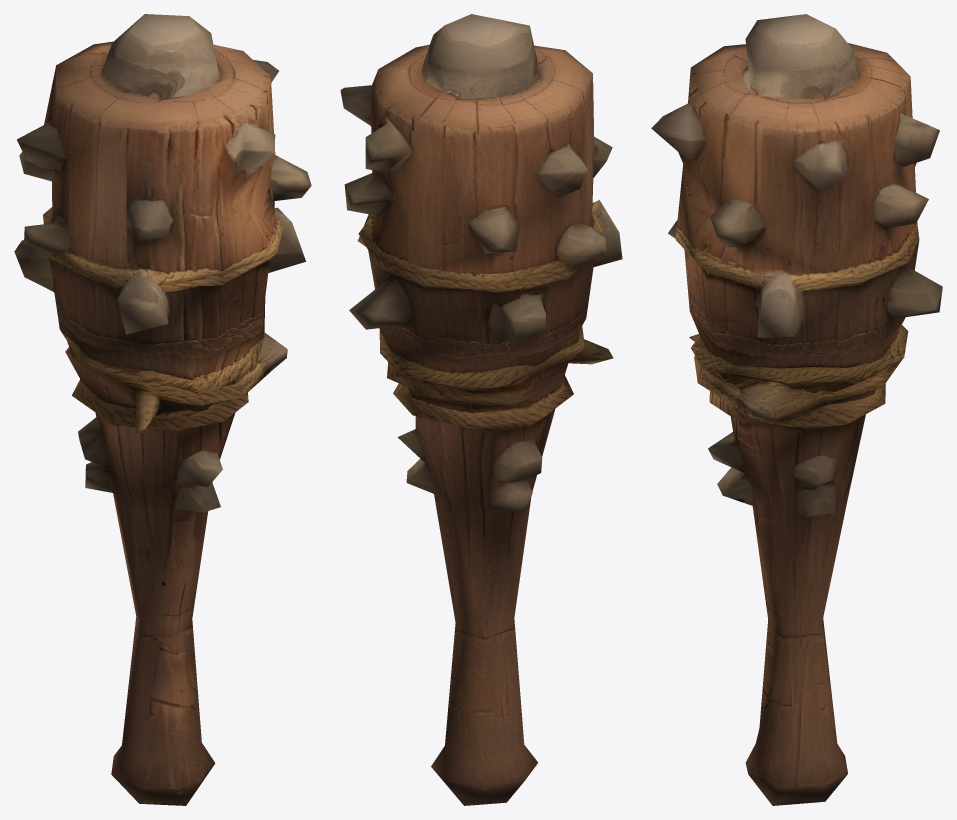
File: dakkaebi_mace.fbx
3 renders of one model, left to right at view 1: azimuth 30°, elevation 25°; view 2: azimuth 150°, elevation 25°; view 3: azimuth 270°, elevation 25°, orthographic.
Visible parts, largest first — view 1: dokkaebi_mace; view 2: dokkaebi_mace; view 3: dokkaebi_mace.
Part boxes in pixels (x1,y1,x2,y2): dokkaebi_mace: (14, 14, 311, 805); dokkaebi_mace: (340, 14, 622, 805); dokkaebi_mace: (651, 14, 942, 805).
Bounding box in the file's own units: 0.4207 × 1.19 × 0.4082.
